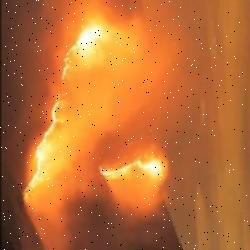fire: (16, 6, 178, 211)
